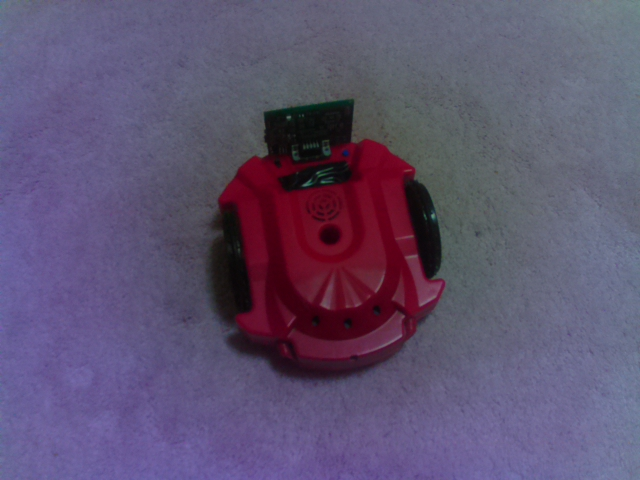chassis: (212, 87, 448, 379)
